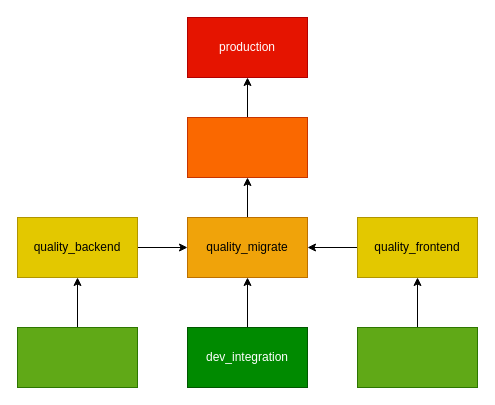
Image size: 495x405. Some labels were removed from this diagram. Each missing label, with the centre of its shape:
"dev_backend" goes at point (77, 357).
"dev_frontend" goes at point (417, 357).
"quality" goes at point (247, 147).
